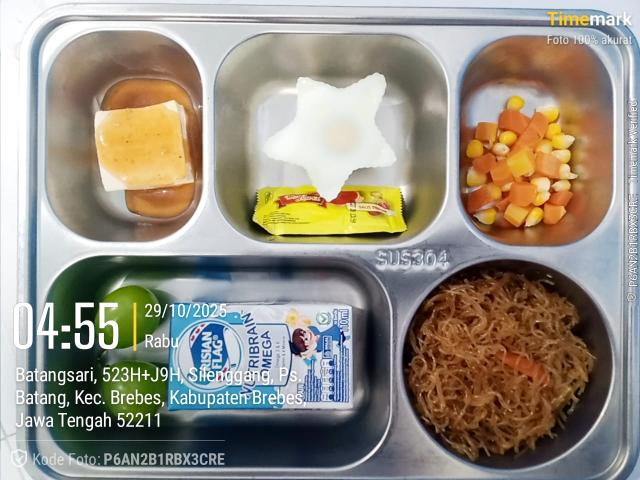buah: (104, 286, 158, 348), (104, 360, 166, 414)
mie: (406, 271, 594, 460)
sayur: (467, 96, 577, 228)
susu: (168, 302, 367, 410)
tahu: (96, 100, 190, 190)
telur: (263, 72, 396, 201)
